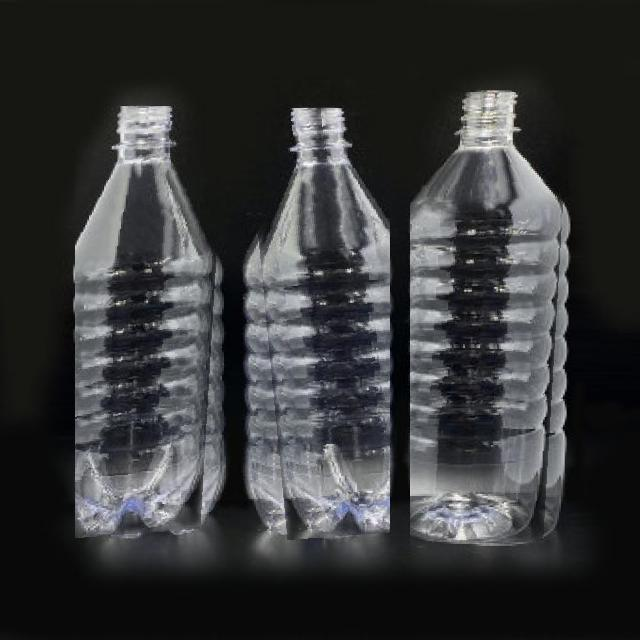plastic bottle: (410, 92, 570, 546), (75, 106, 226, 540), (246, 108, 390, 540)
